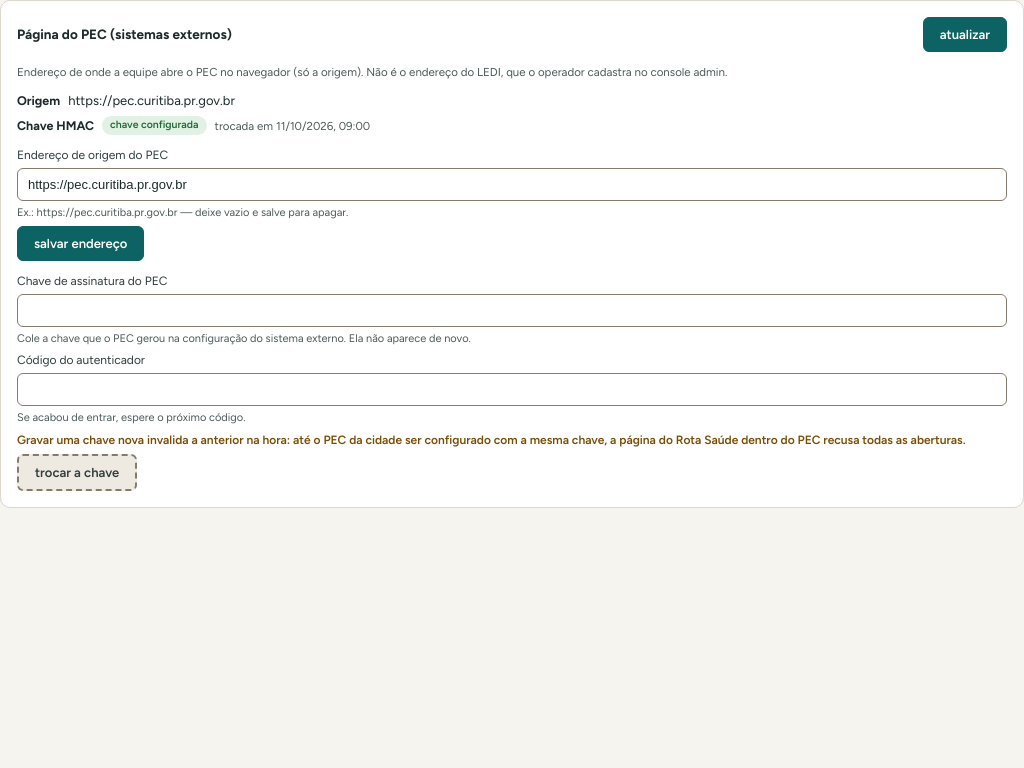
Scenario: PecConfigPanel › campo vazio apaga a origem: o argumento vai como null, nunca omitido
Check: the element named "configuração do PEC" is shown, box [17,93,370,135]
Clear the field labelled "Endereço de origem do PEC": x=512, y=184 [17,168,1007,201]
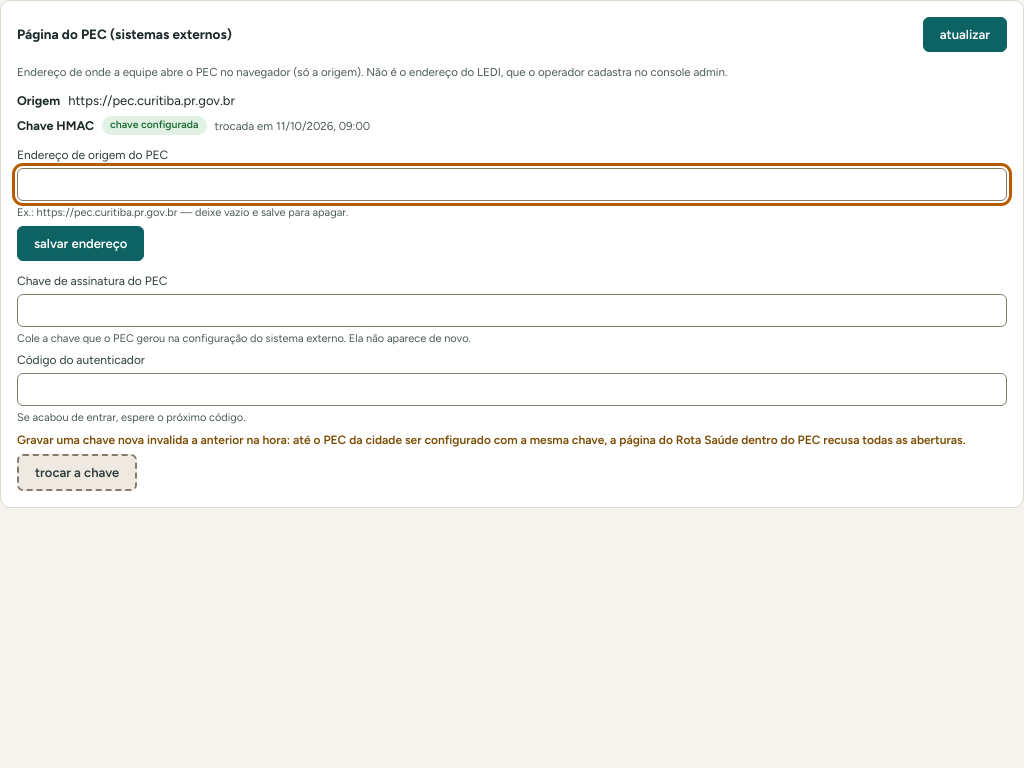
Click the button "salvar endereço": x=81, y=244 [17,226,144,261]
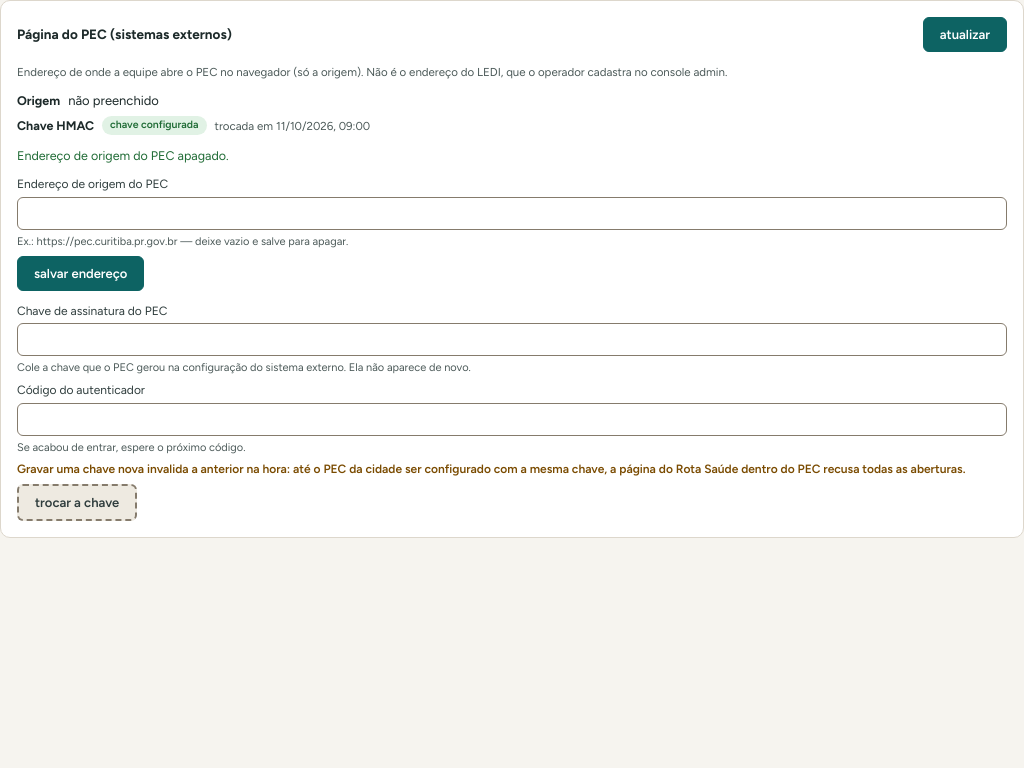
Check: the message reads "Endereço de origem do PEC apagado.", box [17,148,229,163]
Check: the text "não preenchido" is shown, box [68,92,159,110]
